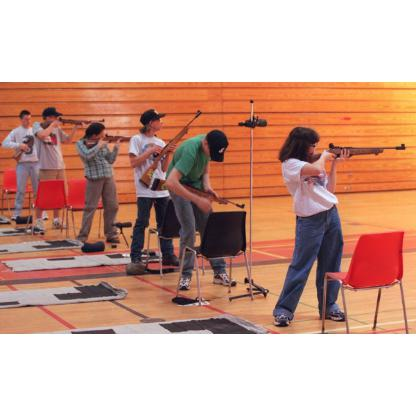gun: (135, 109, 201, 187), (152, 177, 247, 208), (308, 140, 406, 166), (39, 112, 106, 127), (80, 132, 134, 146)
